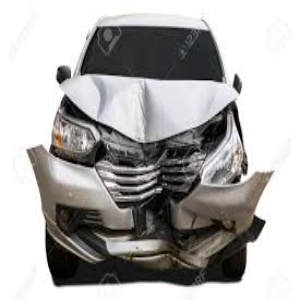bonnet: (81, 71, 227, 141)
bumper: (27, 155, 275, 261)
